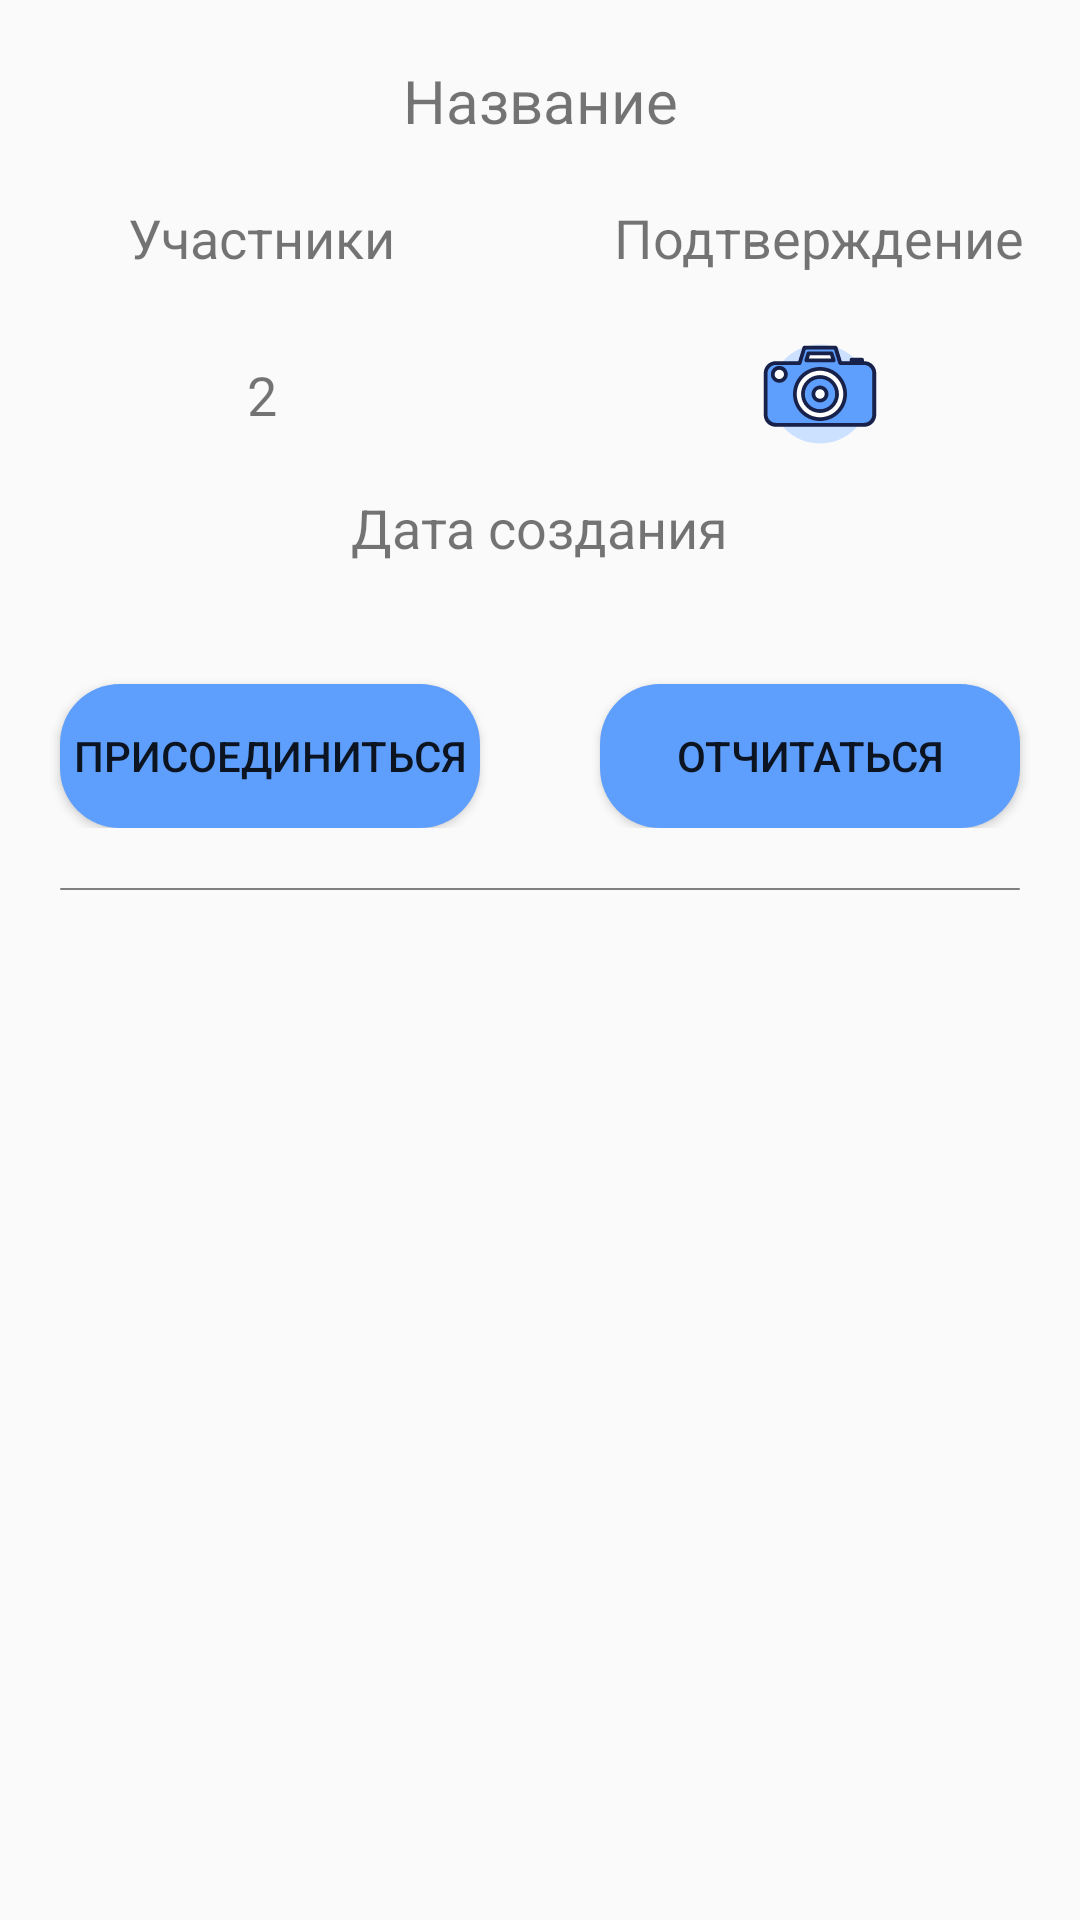

Screen size 1080×1920. Icon name, then its box in pixels as (x1, y1, x2, y2):
camera: (763, 345, 877, 443)
